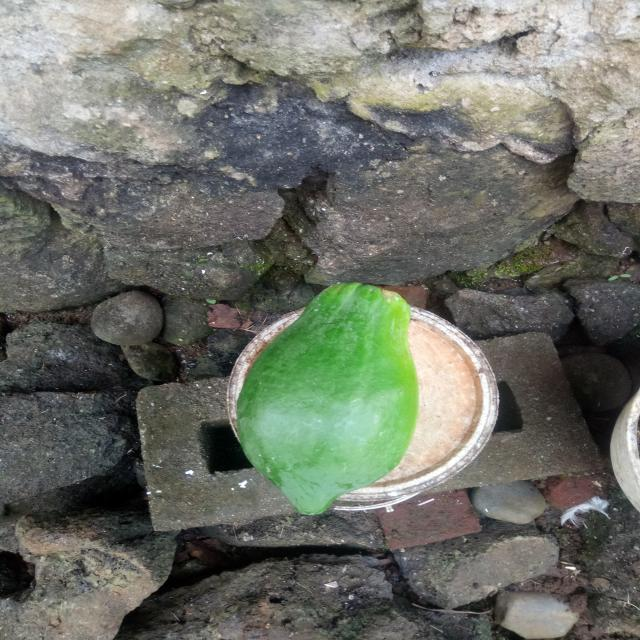Pepaya unrippen: (232, 275, 418, 521)
